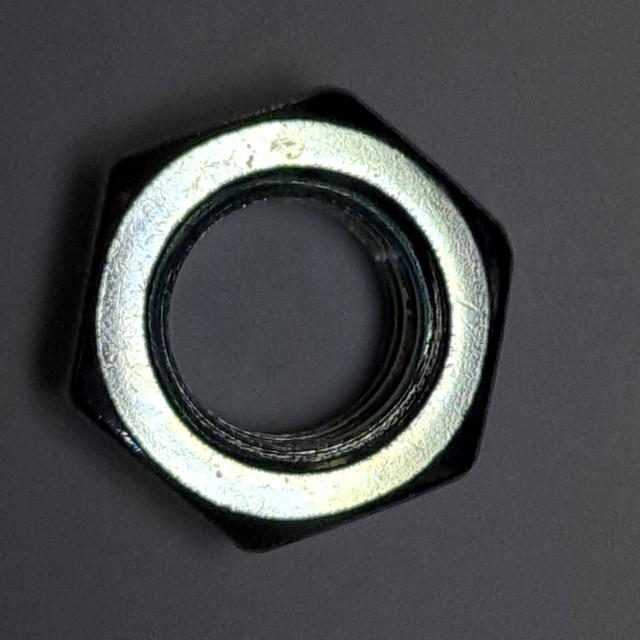Excellent: (47, 71, 531, 569)
